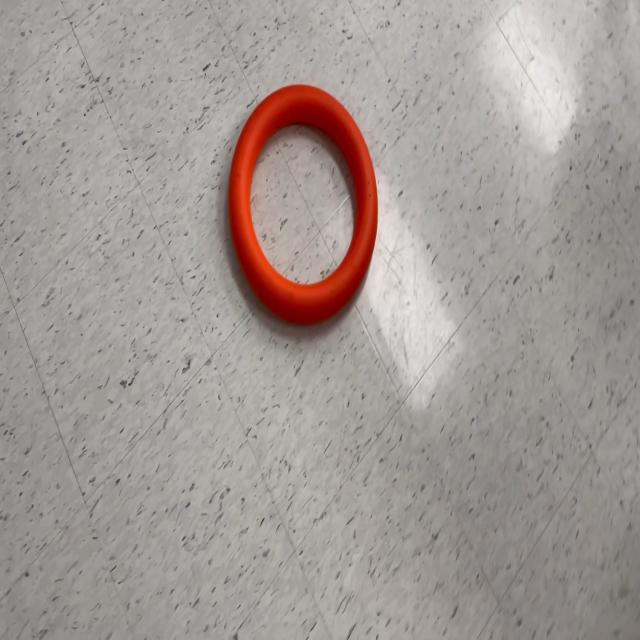note: (226, 80, 380, 327)
